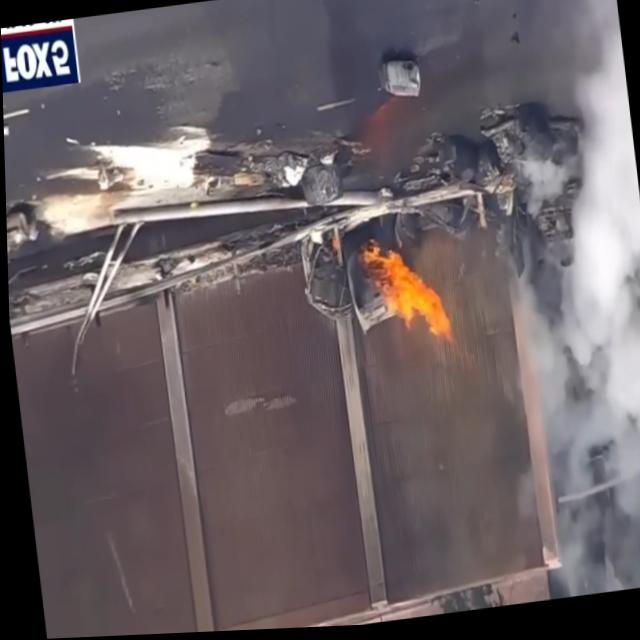Fire: (354, 228, 460, 355)
